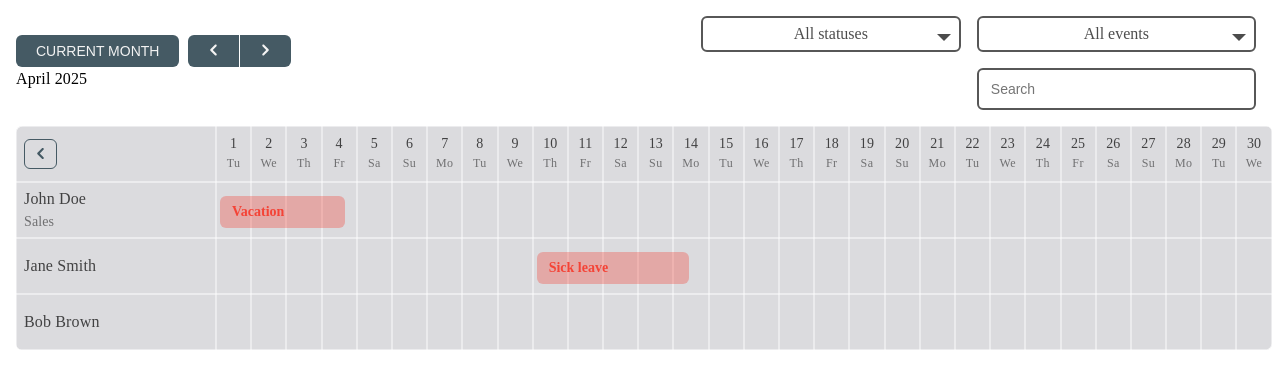
Test: TimelineCalendar › search › restores users when search is cleared
The width and height of the screenshot is (1276, 367).
Type "John" into the field with test id "search-input" at (1116, 89), box x1=977 y1=68 x2=1256 y2=110
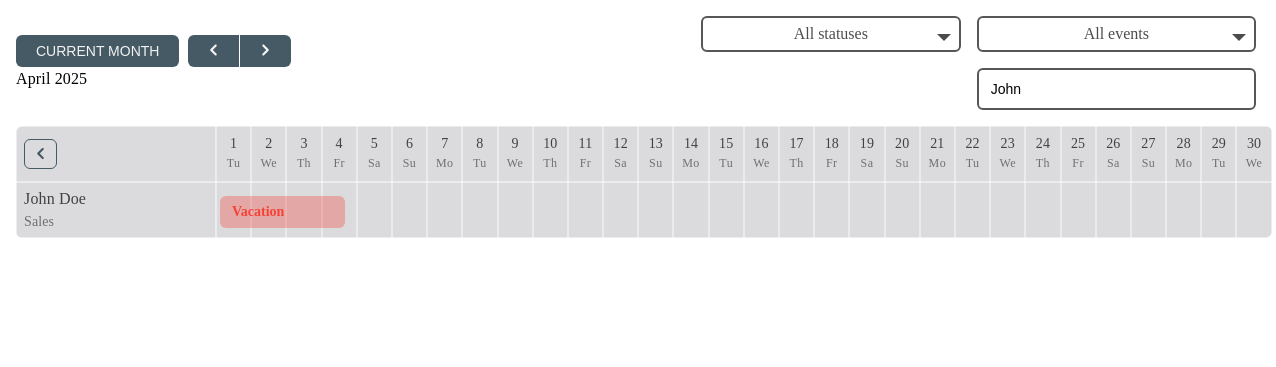
Check: the number of elements with test id "user-item" is 1, box x1=24 y1=190 x2=86 y2=207
Clear the field with test id "search-input" at (1116, 89), box x1=977 y1=68 x2=1256 y2=110
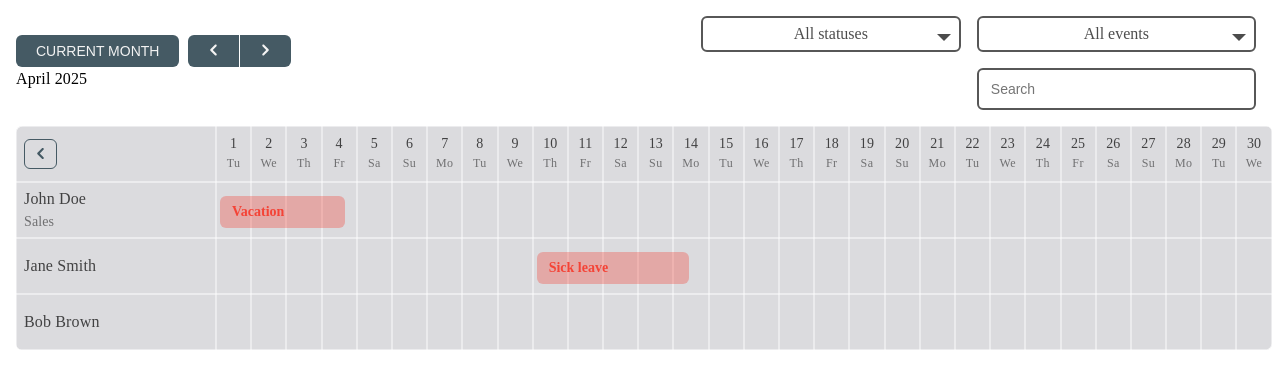
Check: the number of elements with test id "user-item" is 3, box x1=24 y1=190 x2=86 y2=207; x1=24 y1=257 x2=96 y2=274; x1=24 y1=313 x2=100 y2=330
